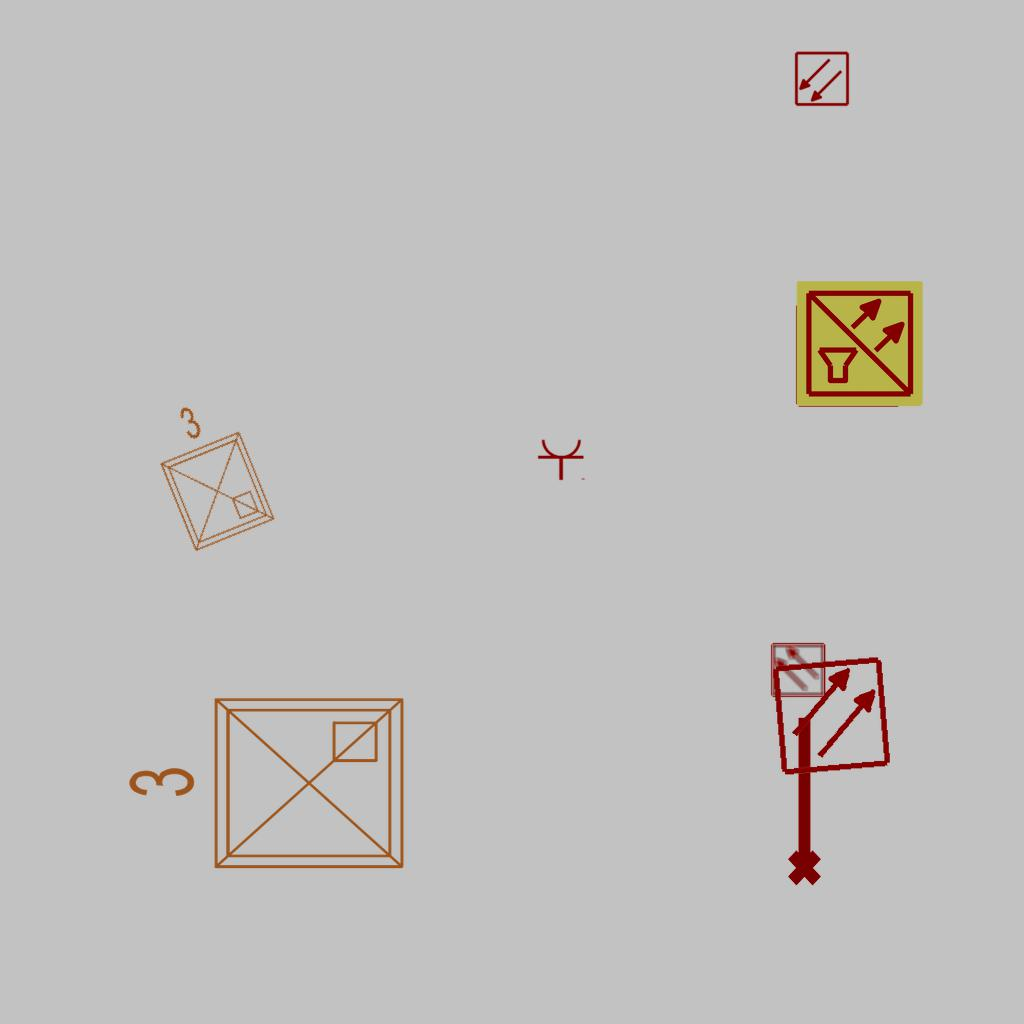ASR_Ansaugoeffnung: (779, 712, 825, 888)
Einbaudownlights_LED_Konferenzraeume: (118, 683, 418, 891), (131, 383, 285, 563)
OKW_Multisensormelder_(Kombination_optischer_Rauch-Kahlenmonoxid_Waerme-Melder): (794, 278, 926, 410)
RMO_Rauchmelder_optischer: (770, 654, 893, 777), (770, 642, 826, 698), (794, 51, 850, 107)
Schukosteckdose_einfach: (537, 438, 587, 481)
